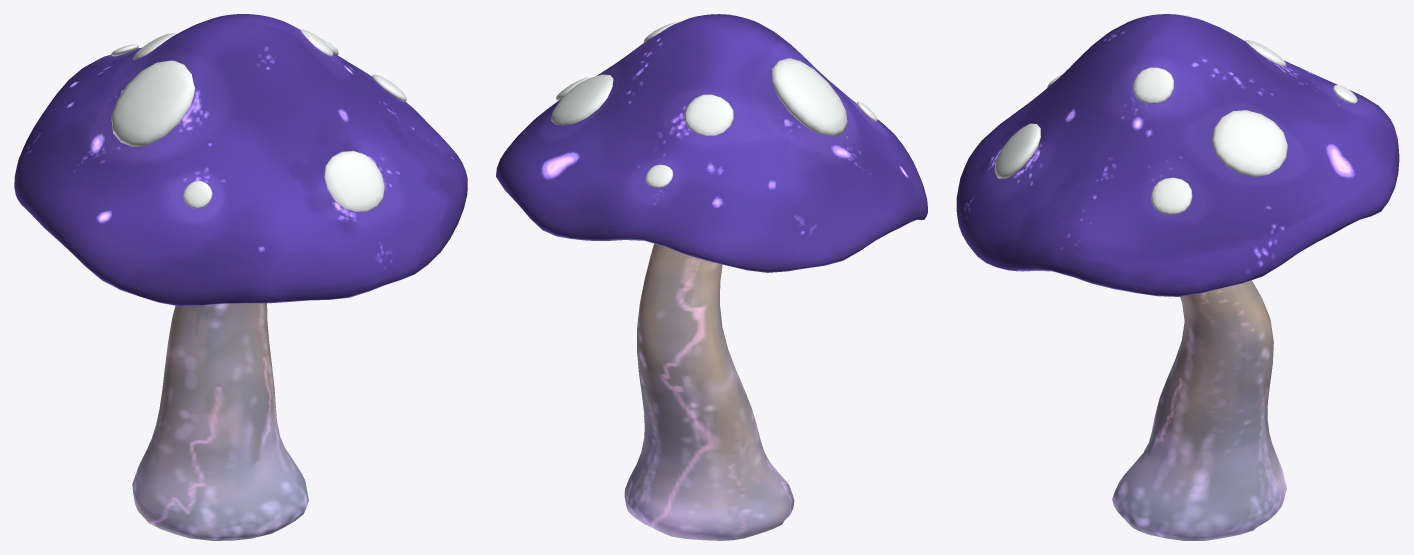
The model's file is purpleshroom.fbx.
3 renders of one model, left to right at view 1: azimuth 30°, elevation 25°; view 2: azimuth 150°, elevation 25°; view 3: azimuth 270°, elevation 25°, orthographic. The views are drawn at different scales.
Visible parts, largest first — view 1: Sphere, Cylinder, Sphere.016; view 2: Sphere, Cylinder, Sphere.016; view 3: Sphere, Cylinder, Sphere.016.
Part boxes in pixels (x1=…): Sphere: x1=14, y1=14, x2=467, y2=306; Cylinder: x1=132, y1=303, x2=308, y2=540; Sphere.016: x1=111, y1=29, x2=406, y2=211; Sphere: x1=496, y1=14, x2=927, y2=272; Cylinder: x1=624, y1=243, x2=794, y2=540; Sphere.016: x1=551, y1=22, x2=877, y2=187; Sphere: x1=956, y1=14, x2=1399, y2=296; Cylinder: x1=1112, y1=280, x2=1286, y2=540; Sphere.016: x1=994, y1=14, x2=1357, y2=214.
Size of the model in its own units: 197 by 242 by 195.
